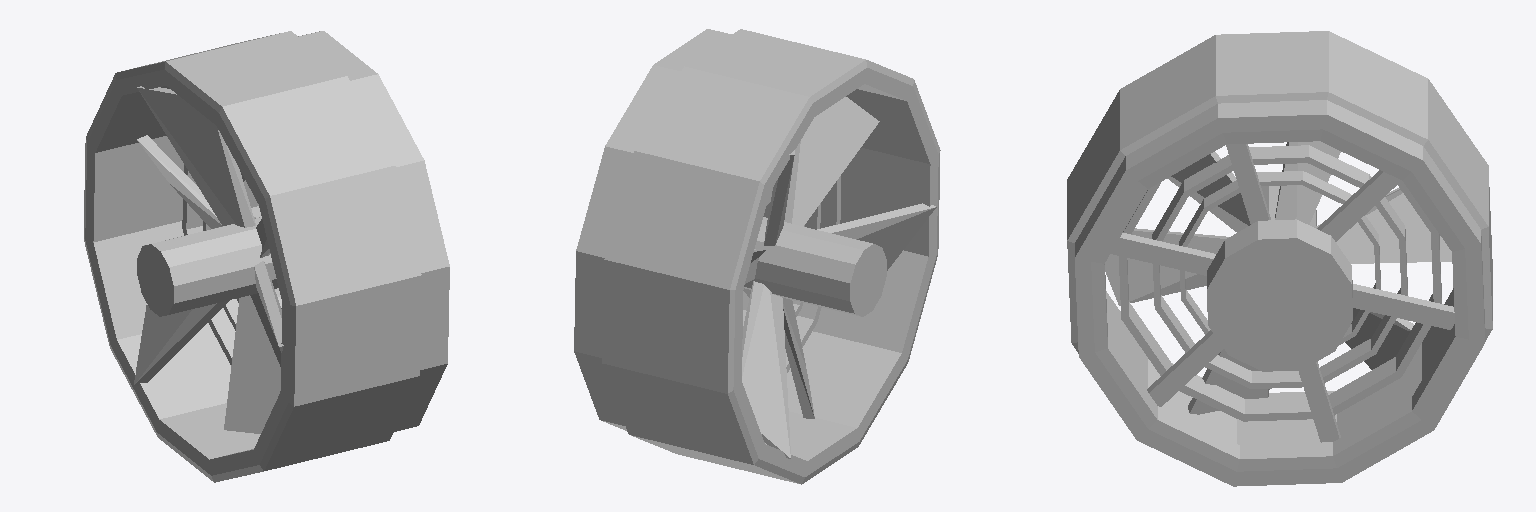
Rendered from Vent.obj.
3 renders of one model, left to right at view 1: azimuth 30°, elevation 25°; view 2: azimuth 150°, elevation 25°; view 3: azimuth 270°, elevation 25°, orthographic.
Visible parts, largest first — view 1: Group56649, Group63229, Group7100, Group55136; view 2: Group56649, Group63229, Group7100, Group55136; view 3: Group56649, Group55136, Group7100, Group63229, Group8817.
Boxes of the visible parts, x1,y1,x2,y2 form: Group56649: [84, 31, 449, 482]; Group63229: [134, 86, 283, 433]; Group7100: [137, 217, 278, 316]; Group55136: [182, 165, 244, 364]; Group56649: [574, 29, 940, 484]; Group63229: [742, 97, 936, 458]; Group7100: [744, 217, 886, 316]; Group55136: [786, 176, 840, 372]; Group56649: [1067, 31, 1492, 486]; Group55136: [1119, 145, 1441, 421]; Group7100: [1207, 186, 1352, 371]; Group63229: [1105, 141, 1451, 414]; Group8817: [1111, 144, 1454, 442].
Size of the model in its own units: 1.03 by 1.89 by 1.89.